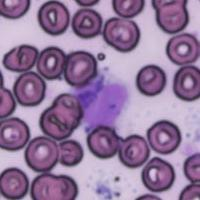M: (71, 69, 134, 132)
